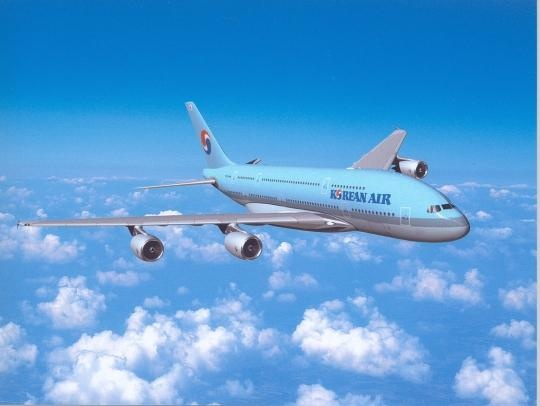airplane: (3, 99, 476, 269)
